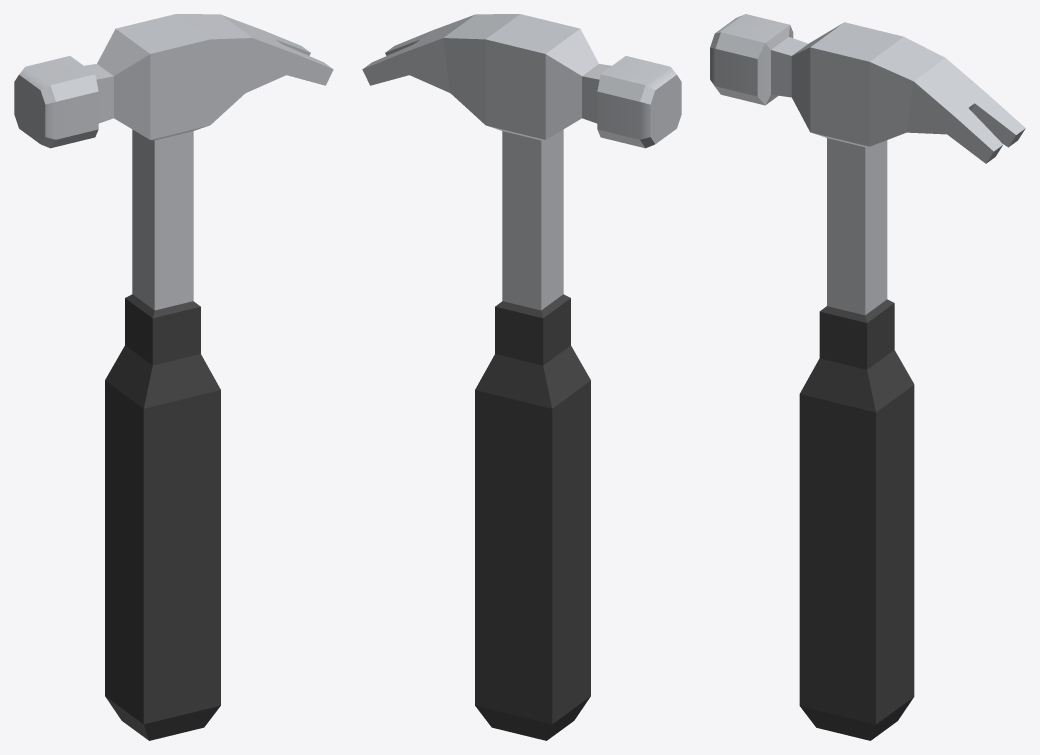
Rendered from SM_Item_Hammer_03.fbx.
The picture shows the model from 3 angles, left to right: view 1: azimuth 30°, elevation 25°; view 2: azimuth 150°, elevation 25°; view 3: azimuth 330°, elevation 25°; orthographic projection.
Parts seen in each view (by area): view 1: SM_Item_Hammer_03; view 2: SM_Item_Hammer_03; view 3: SM_Item_Hammer_03.
Part boxes in pixels (<box>): SM_Item_Hammer_03: <box>14,14,333,740</box>; SM_Item_Hammer_03: <box>362,14,681,740</box>; SM_Item_Hammer_03: <box>710,14,1025,740</box>.
Bounding box in the file's own units: 20.15 × 46.2 × 4.71.
